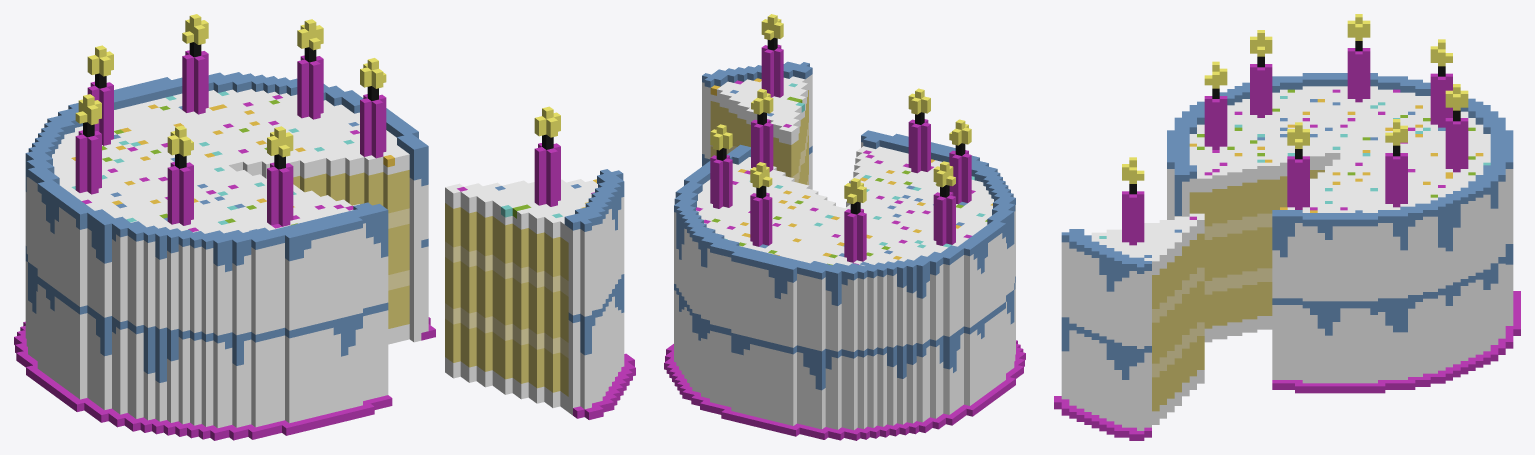
Rendered from cake_inner.obj.
3 views of the same model, side by side, from view 1: azimuth 30°, elevation 25°; view 2: azimuth 150°, elevation 25°; view 3: azimuth 270°, elevation 25° (orthographic). The views are drawn at different scales.
Parts seen in each view (by area): view 1: cake_inner; view 2: cake_inner; view 3: cake_inner.
Boxes of the visible parts, x1,y1,x2,y2 form: cake_inner: (14,14,635,440); cake_inner: (664,14,1025,440); cake_inner: (1054,14,1520,440).
Size of the model in its own units: 63 by 36 by 62.
1 material, 1 textured.
